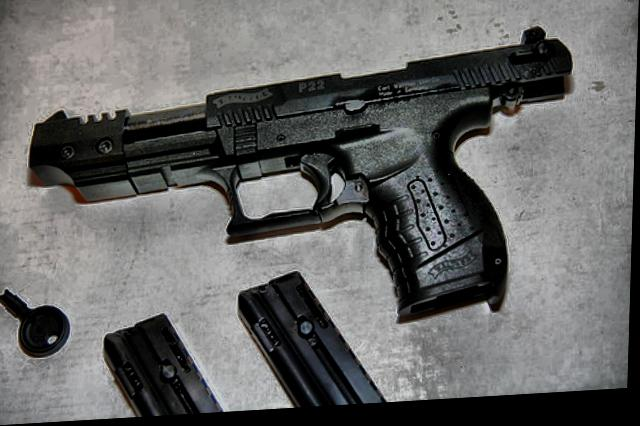pistol: (24, 30, 573, 348)
